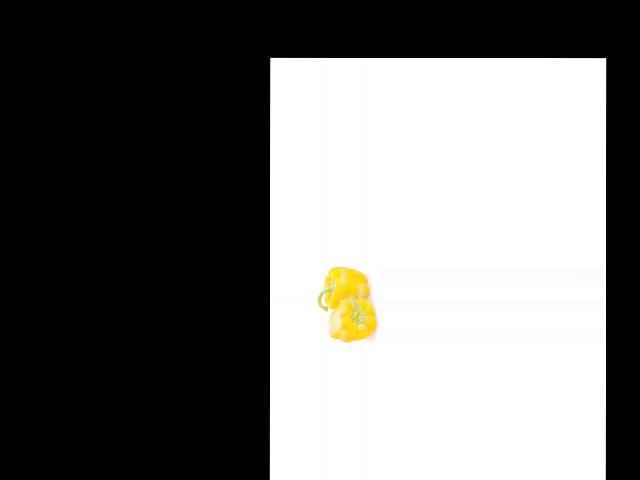bell_pepper: (319, 265, 370, 313)
